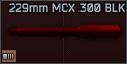MCX .300 BLK 229mm barrel: (0, 0, 127, 64)
